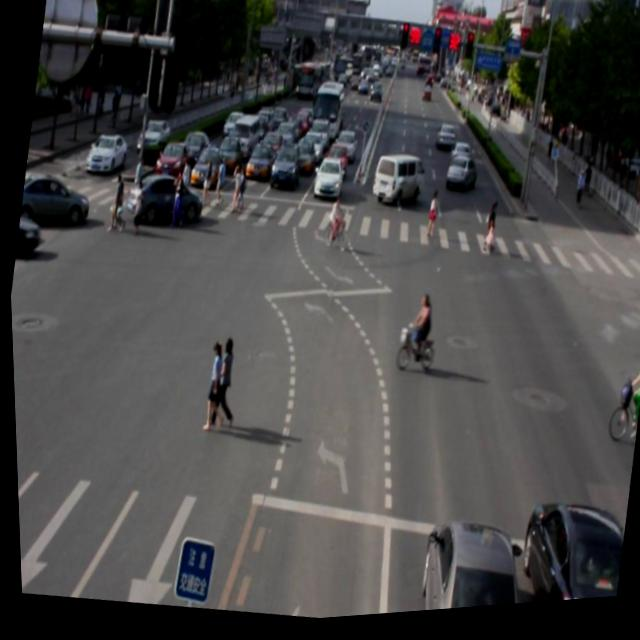car: (503, 500, 626, 612), (404, 520, 525, 617), (121, 169, 206, 237)
